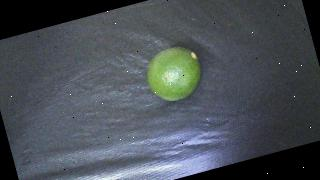LOCAL: (141, 42, 207, 107)
